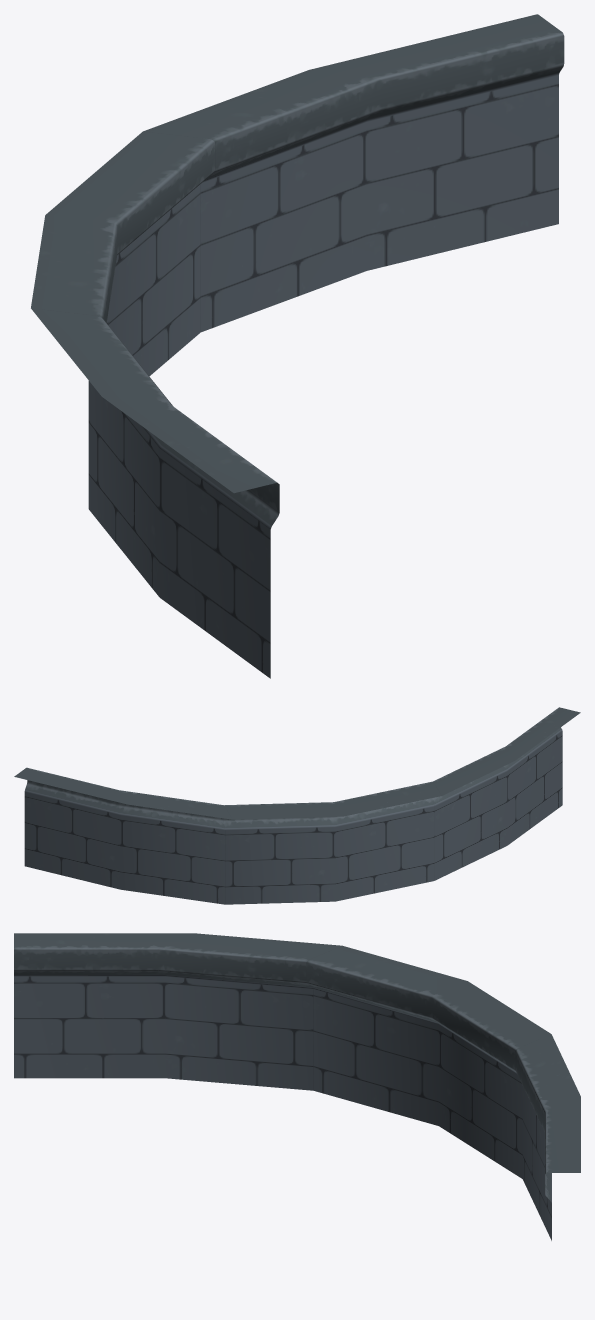
The model's file is Skirt_Curved.fbx.
3 views of the same model, one above another, from view 1: azimuth 30°, elevation 25°; view 2: azimuth 150°, elevation 25°; view 3: azimuth 270°, elevation 25° (orthographic). The views are drawn at different scales.
Visible parts, largest first — view 1: Skirt_Curved; view 2: Skirt_Curved; view 3: Skirt_Curved.
Part boxes in pixels (x1,y1,x2,y2): Skirt_Curved: [31, 14, 564, 678]; Skirt_Curved: [14, 707, 580, 904]; Skirt_Curved: [14, 933, 580, 1240].
Bounding box in the file's own units: 500 × 129 × 500.
1 material, 1 textured.
